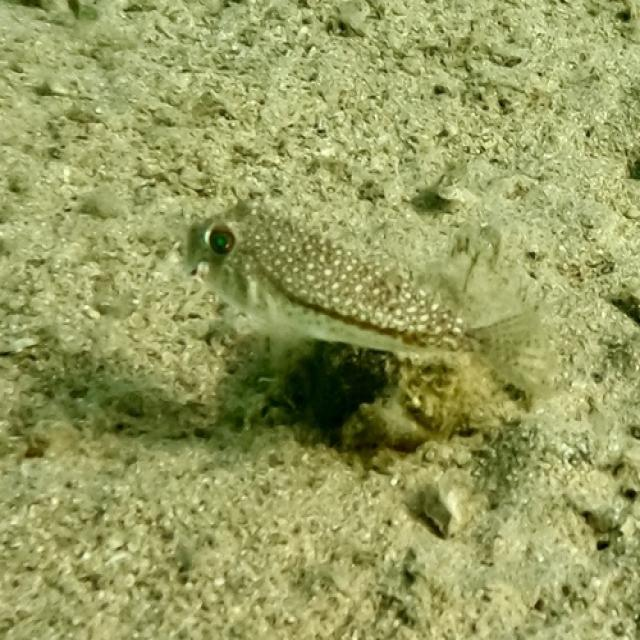Balik: (187, 202, 528, 369)
